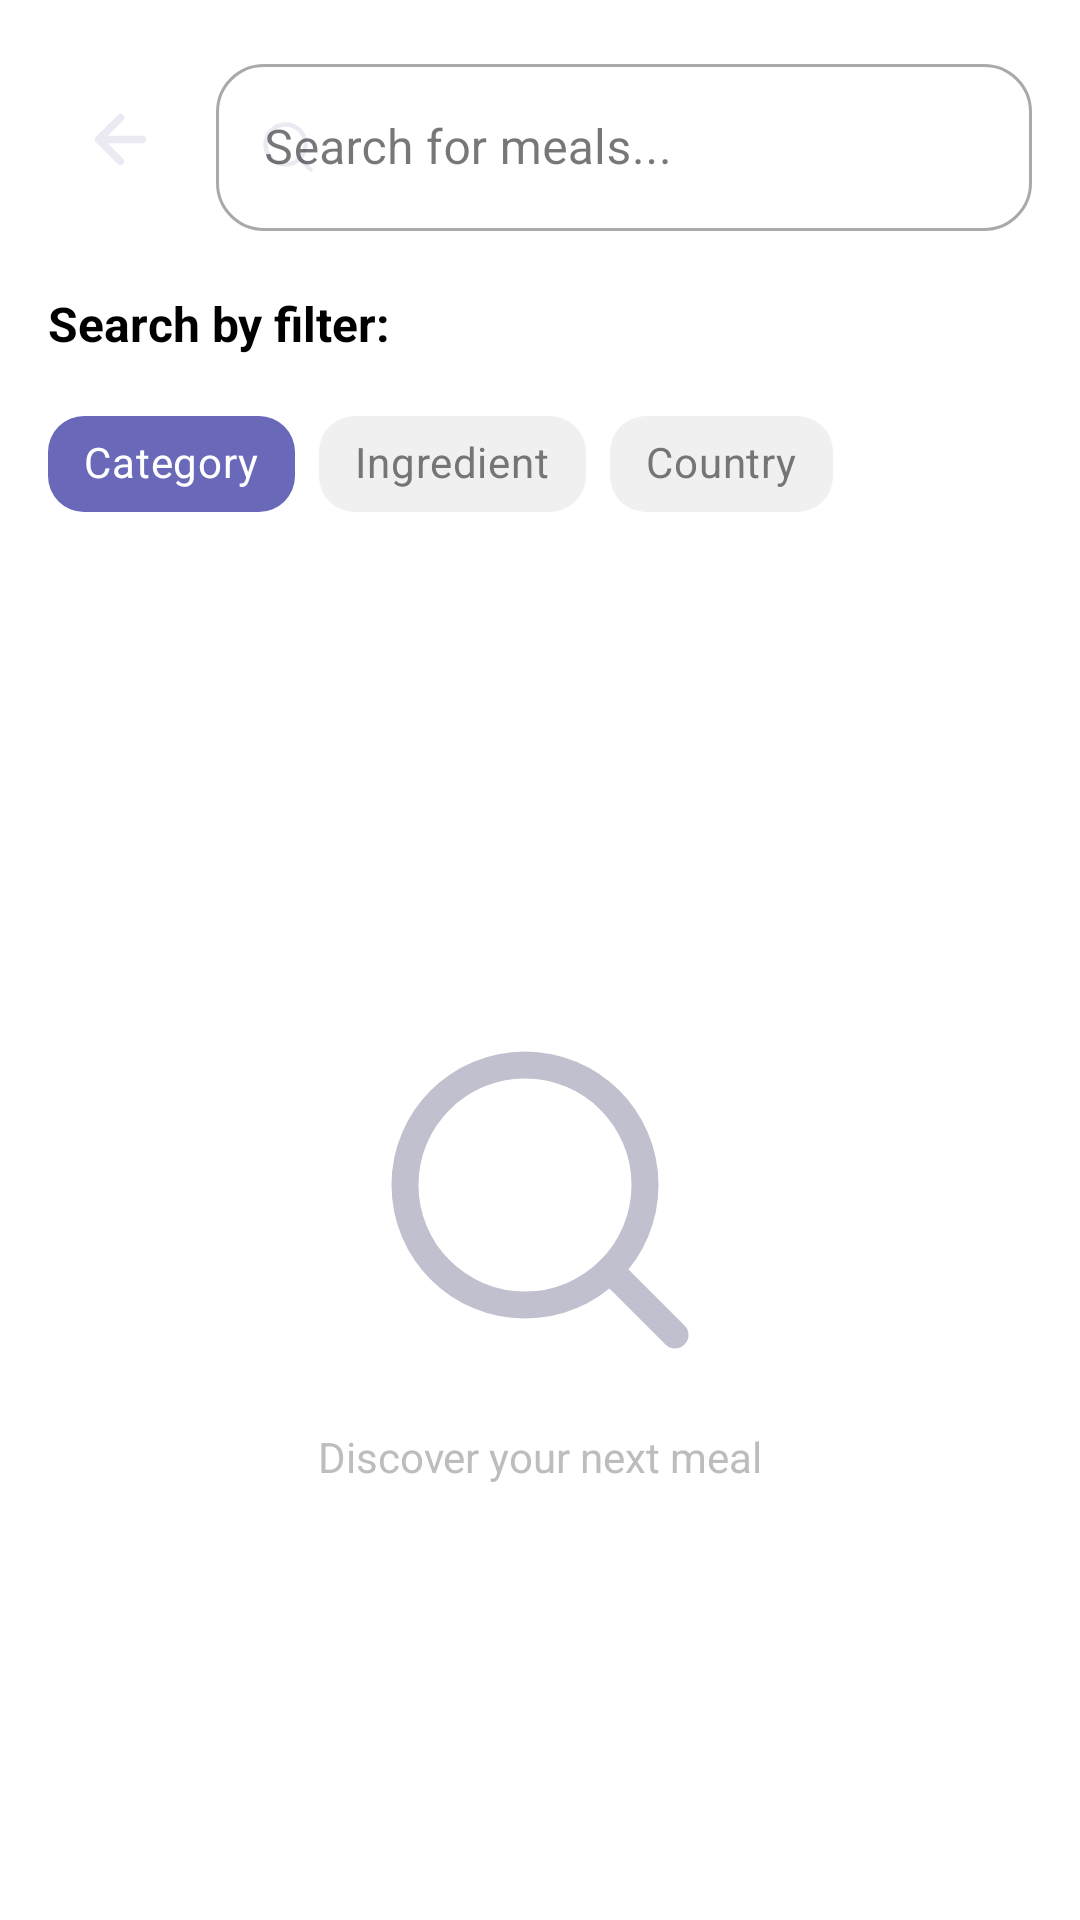

Named icons in this screenshot (1080 × 1920) and their bounding boxes, (x1, y1, x2, y2):
search: (391, 1051, 689, 1349)
